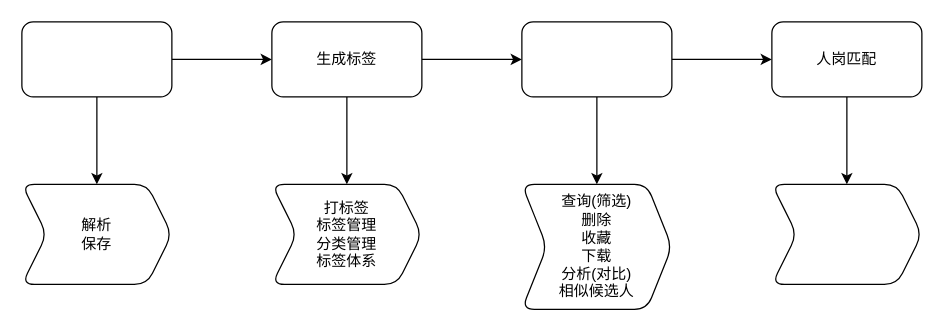
Some shapes in this 944 by 331 pixel diagram are drawn without their labels. Each missing label, with the centre of its shape:
上传简历: the point at 96,59
岗位: the point at 846,233
简历操作: the point at 596,59
